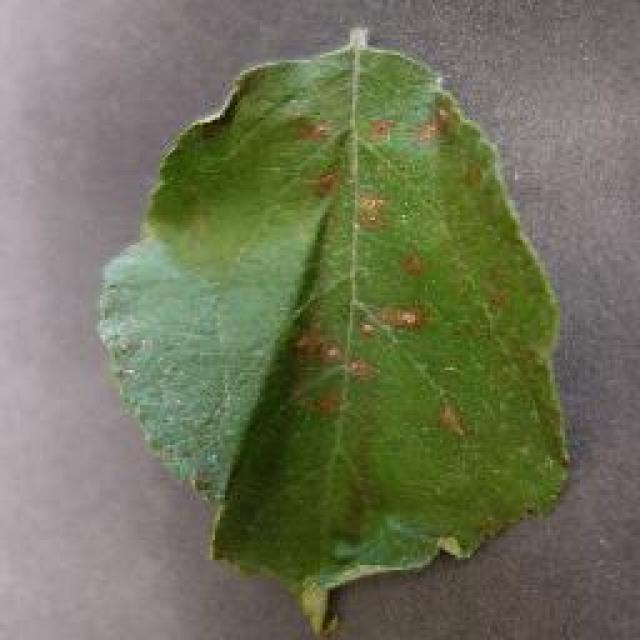apple rust disease: (95, 25, 573, 635)
